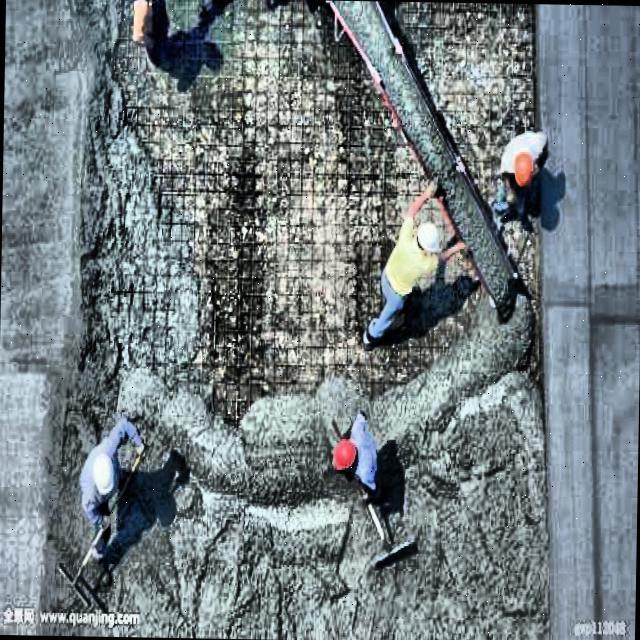helmet: (84, 452, 124, 506), (324, 432, 364, 480), (505, 145, 542, 194), (414, 213, 444, 264)
